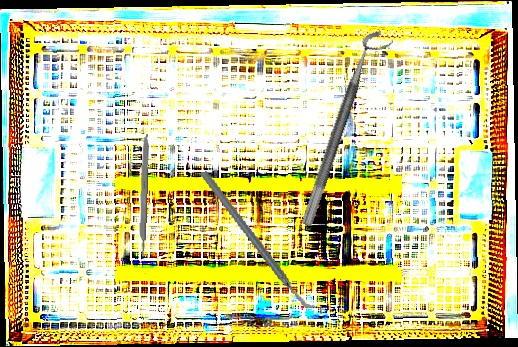Chopper: (197, 152, 320, 328)
Fixation Ring: (300, 26, 395, 233)
Scalpel Handle: (137, 133, 150, 255)
